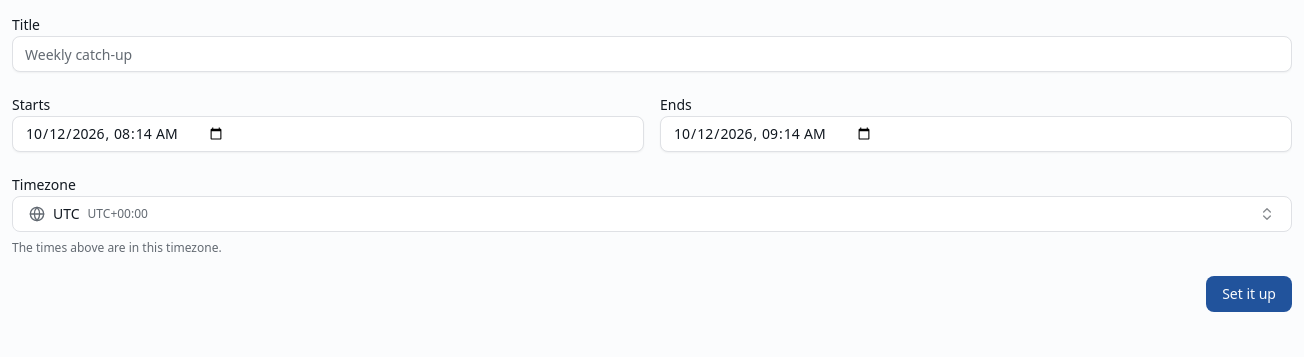
Test: CreateCallPage form › rejects an end time that is not after the start
This screenshot has width=1304, height=357.
Type "Roadmap planning" into the field labelled "Title".
click(652, 54); type("Roadmap planning")  # box [12,36,1292,72]
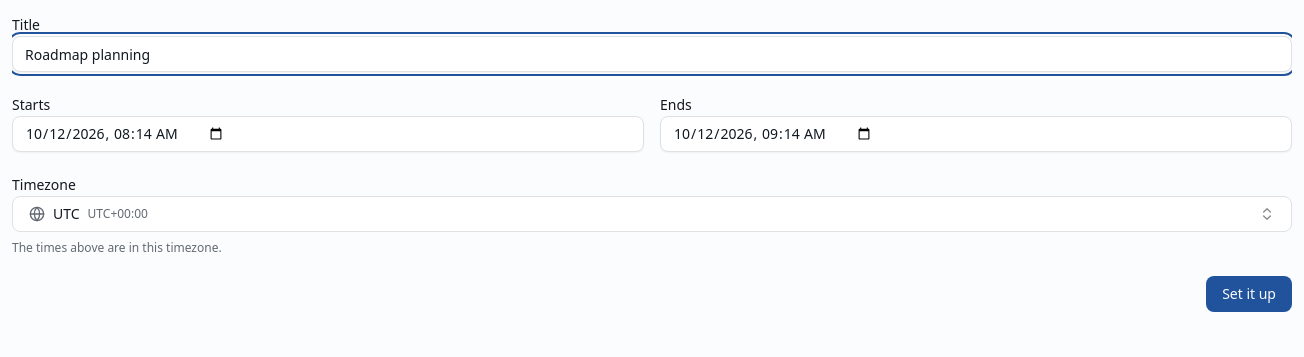
Replace the text in the field labelled "Starts" with "2026-10-03T14:00" at point(328, 134), box [12,116,644,152]
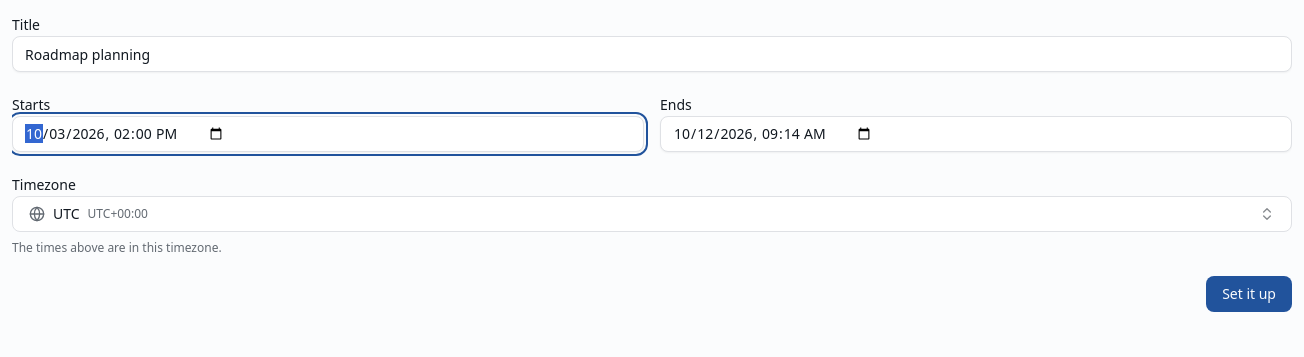
Replace the text in the field labelled "Ends" with "2026-10-03T13:00" at point(976, 134), box [660,116,1292,152]
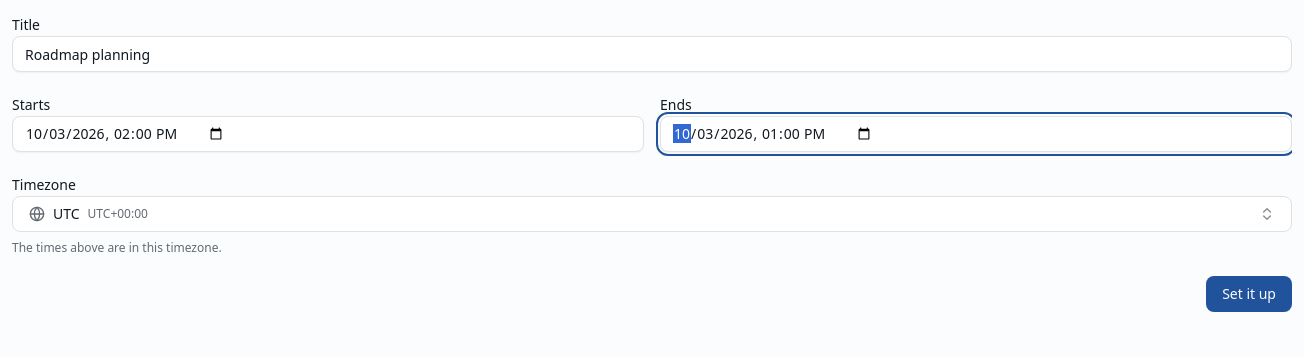
Click the button "Set it up".
click(1249, 294)  # box [1206,276,1292,312]
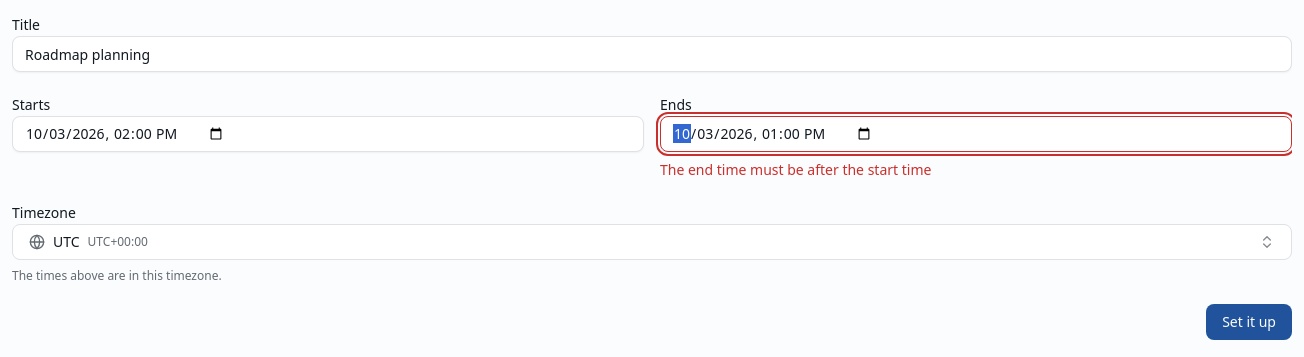
Expected: the text "The end time must be after the start time" is shown, [660,160,931,179]
